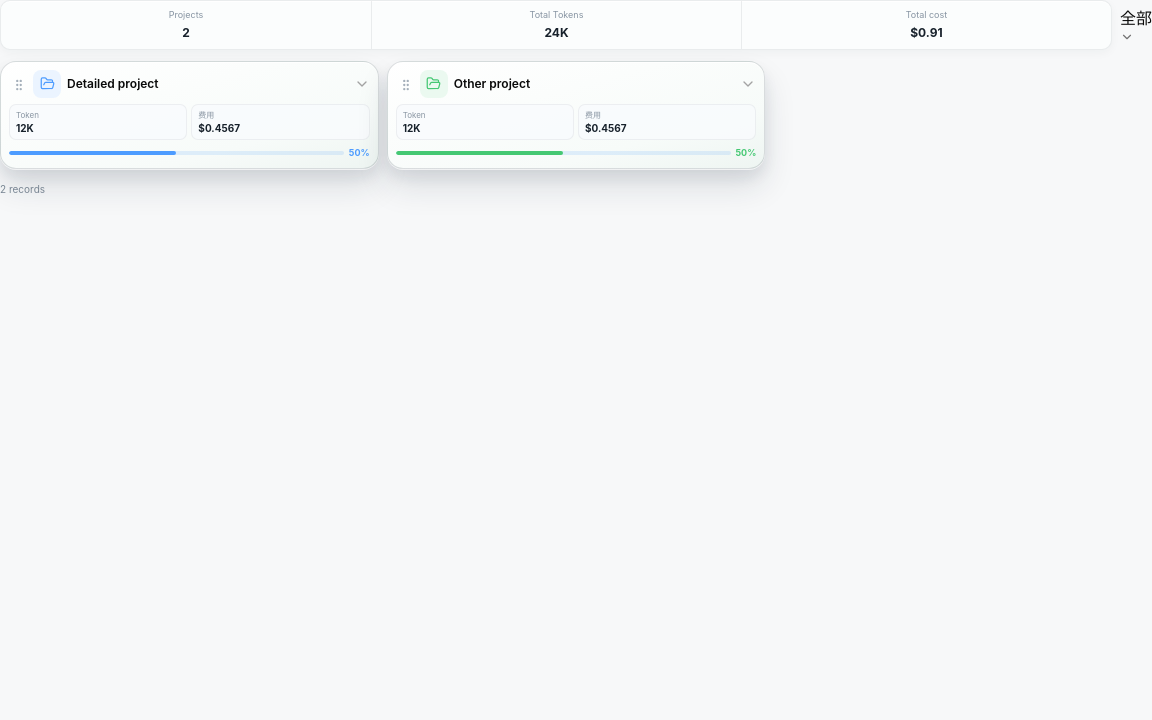
Test case: ProjectUsagePanel › reveals real agent, model, period, activity and trend details for only the selected project
The image size is (1152, 720).
What coordinates should you click on to do the following:
click the button with class "tt-overview-project-toggle" showing "Detailed project"
I would click on:
 (113, 83)
Its box is [33,70,370,98].
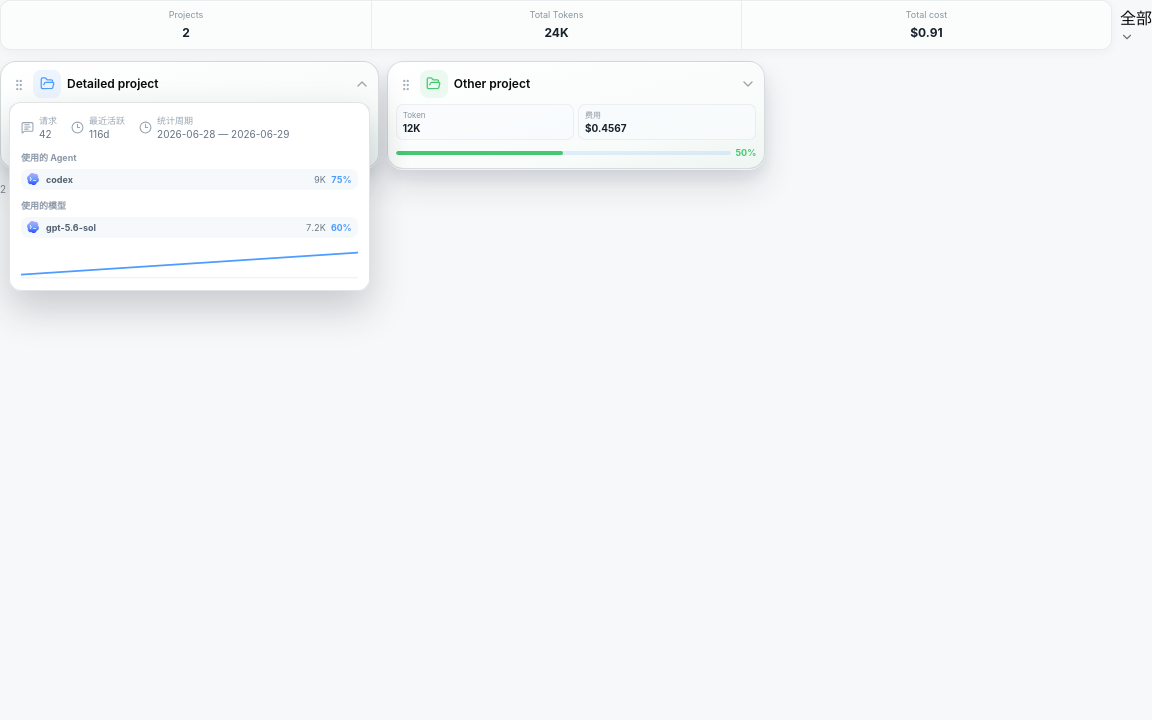
Result: the element showing "使用的 Agent codex 9K 75%" is shown at [21,151,358,190]
Result: the element showing "使用的模型 gpt-5.6-sol 7.2K 60%" is shown at [21,199,358,238]
Result: the element showing "统计周期 2026-06-28 — 2026-06-29" is shown at [139,114,289,142]
